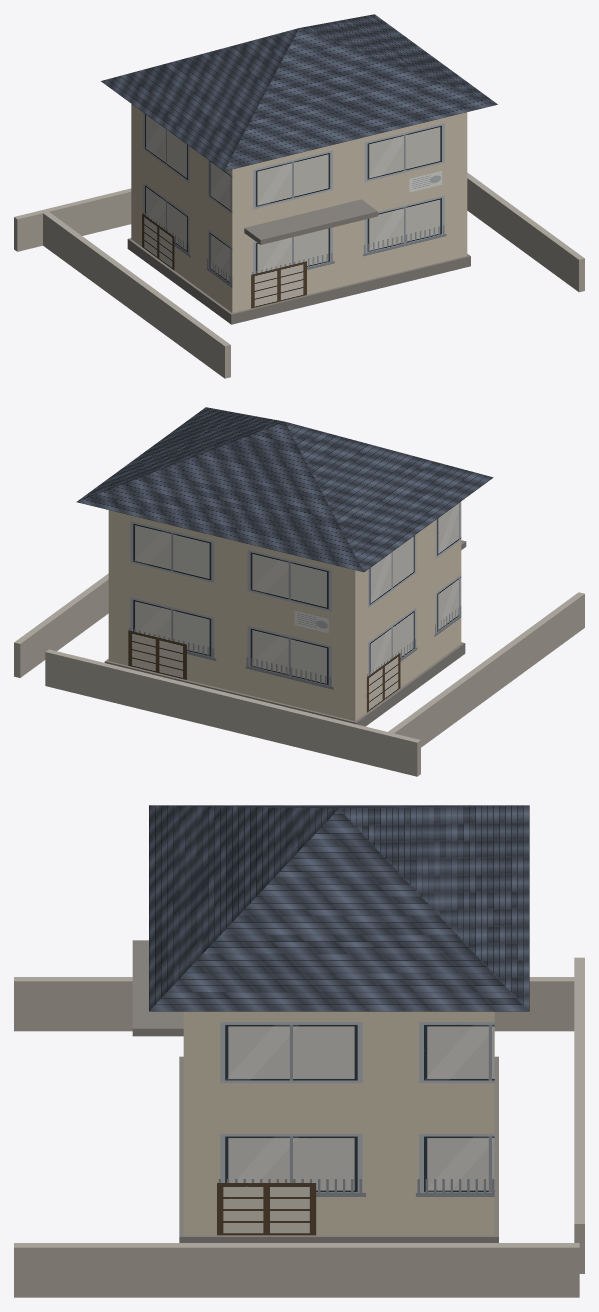
Rendered from house_f.glb.
3 renders of one model, top to bottom at view 1: azimuth 30°, elevation 25°; view 2: azimuth 150°, elevation 25°; view 3: azimuth 270°, elevation 25°, orthographic. The views are drawn at different scales.
Parts seen in each view (by area): view 1: jhouse; view 2: jhouse; view 3: jhouse.
Boxes of the visible parts, bbox=[...] form: jhouse: bbox=[14, 14, 584, 378]; jhouse: bbox=[14, 407, 584, 776]; jhouse: bbox=[14, 805, 584, 1297].
Size of the model in its own units: 16.17 by 9.2 by 13.46.
4 materials, 2 textured.
